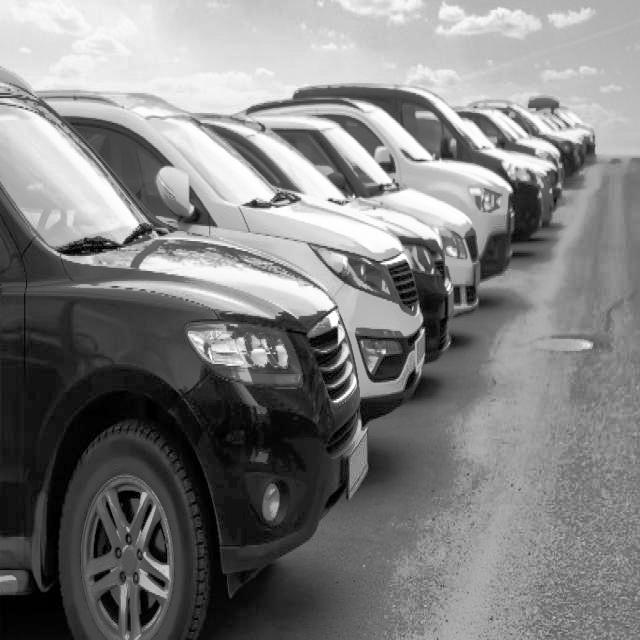Car: (2, 77, 423, 640), (47, 79, 428, 428), (210, 112, 453, 358)
